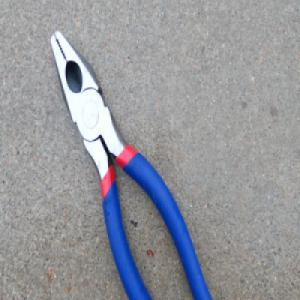Pliers: (48, 27, 216, 300)
